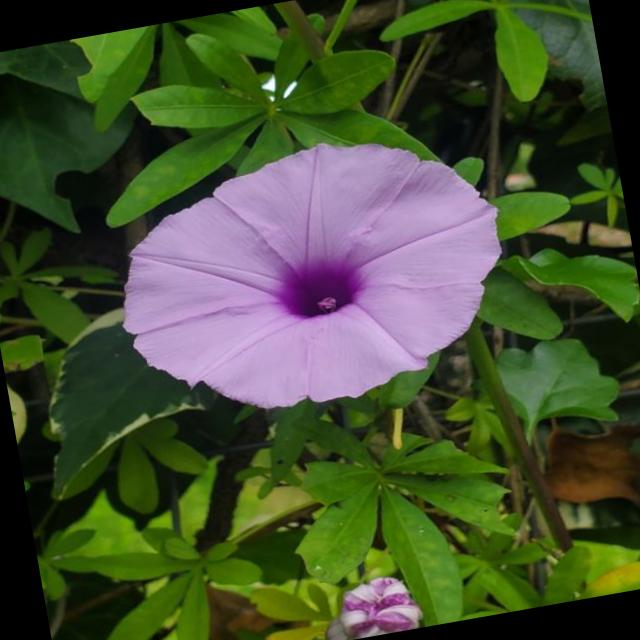ipomoea: (94, 111, 529, 438), (314, 567, 426, 640)
